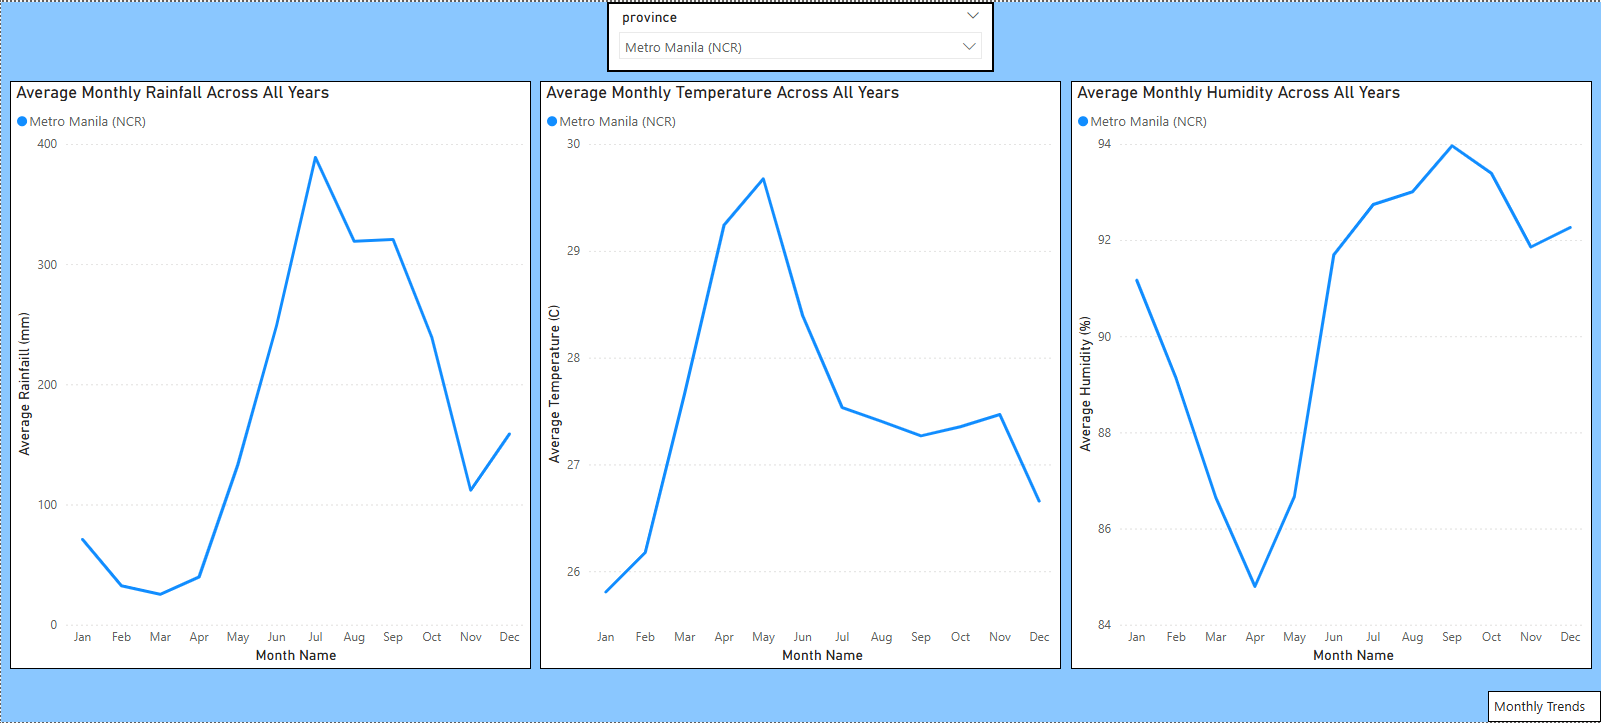

What the dashboard file says about the page in this screenshot:
{"tool":"powerbi","page":{"name":"Monthly Trends","canvas":[1600,720],"ordinal":2},"visuals":[{"type":"lineChart","title":"Average Monthly Rainfall Across All Years","fields":{"Y":["Avg(mart_monthly_patterns.avg_rain)"],"Series":["mart_monthly_patterns.province"],"Category":["mart_monthly_patterns.Month Name"]},"box":[9,79,521,588],"z":0},{"type":"slicer","fields":{"Values":["mart_monthly_patterns.province"]},"box":[606,0,387,70],"z":1000},{"type":"lineChart","title":"Average Monthly Temperature Across All Years","fields":{"Series":["mart_monthly_patterns.province"],"Category":["mart_monthly_patterns.Month Name"],"Y":["Avg(mart_monthly_patterns.avg_temp)"]},"box":[539,79,521,588],"z":2000},{"type":"lineChart","title":"Average Monthly Humidity Across All Years","fields":{"Series":["mart_monthly_patterns.province"],"Category":["mart_monthly_patterns.Month Name"],"Y":["Avg(mart_monthly_patterns.avg_humidity_max)"]},"box":[1070,79,521,588],"z":3000},{"type":"textbox","box":[1487,689,113,31],"z":3001}]}

Visuals, with their boxes in screenshot pixels (x1, y1, x2, y2), scaled from the page's 1600x720 canvas onto the 1601x723 screenshot:
"Average Monthly Rainfall Across All Years" lineChart: bbox=[9, 79, 530, 670]
slicer - mart_monthly_patterns.province: bbox=[606, 0, 994, 70]
"Average Monthly Temperature Across All Years" lineChart: bbox=[539, 79, 1061, 670]
"Average Monthly Humidity Across All Years" lineChart: bbox=[1071, 79, 1592, 670]
textbox: bbox=[1488, 692, 1600, 722]
